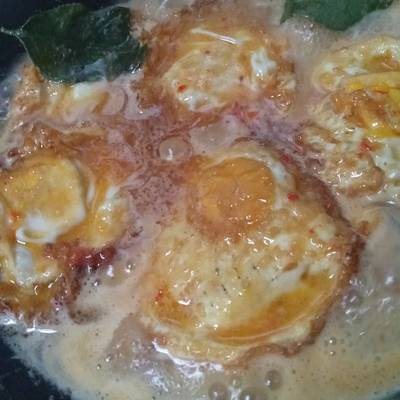Telur: (130, 130, 356, 326), (2, 132, 124, 304), (127, 18, 297, 126)
